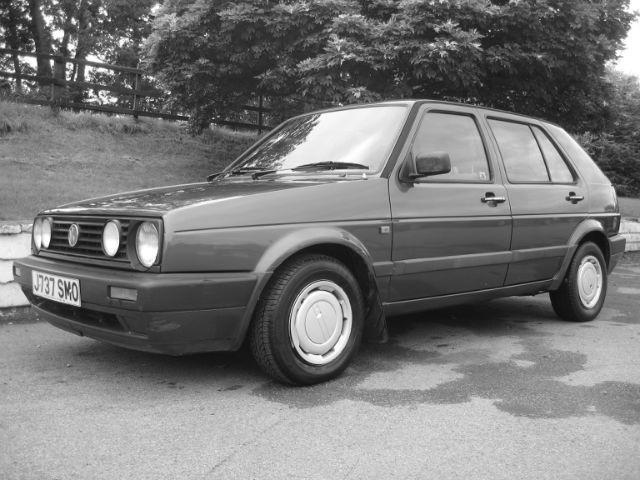car: (13, 99, 627, 389)
